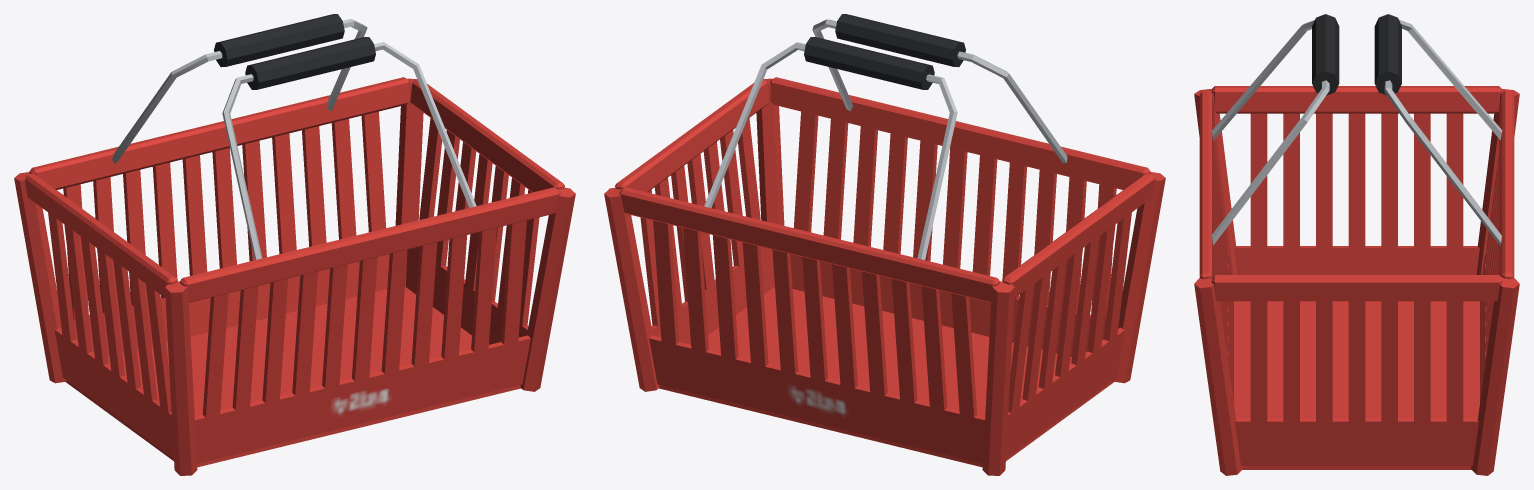
The model's file is SC_Fix_Basket.gltf.
3 renders of one model, left to right at view 1: azimuth 30°, elevation 25°; view 2: azimuth 150°, elevation 25°; view 3: azimuth 270°, elevation 25°, orthographic.
Visible parts, largest first — view 1: SC_Fix_Basket; view 2: SC_Fix_Basket; view 3: SC_Fix_Basket.
Boxes of the visible parts, left/top/right/bottom form: SC_Fix_Basket: left=14, top=14, right=575, bottom=475; SC_Fix_Basket: left=604, top=14, right=1165, bottom=475; SC_Fix_Basket: left=1194, top=14, right=1519, bottom=475.
Size of the model in its own units: 0.4489 by 0.3648 by 0.3118.
Materials: 2 (2 with a texture image).
